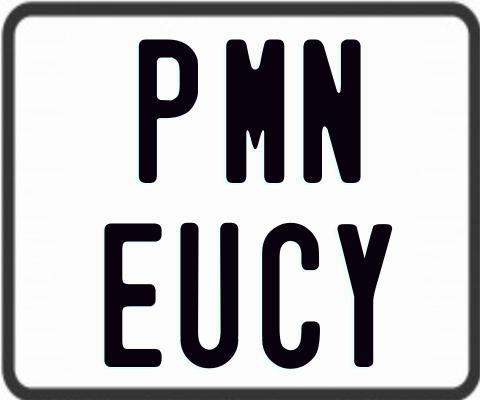C: (259, 220, 317, 366)
E: (101, 220, 161, 365)
M: (226, 38, 287, 188)
N: (302, 37, 364, 186)
P: (139, 38, 200, 188)
U: (178, 221, 236, 367)
Y: (337, 222, 394, 371)
